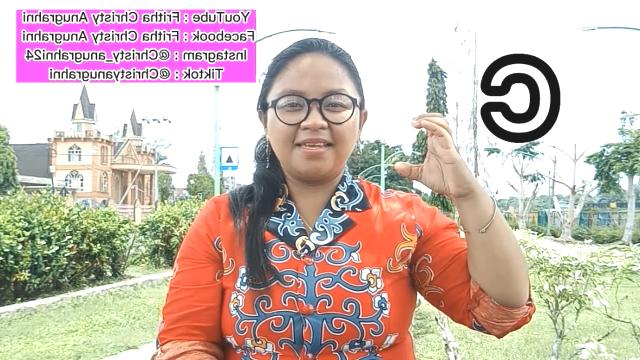C: (394, 112, 472, 198)
